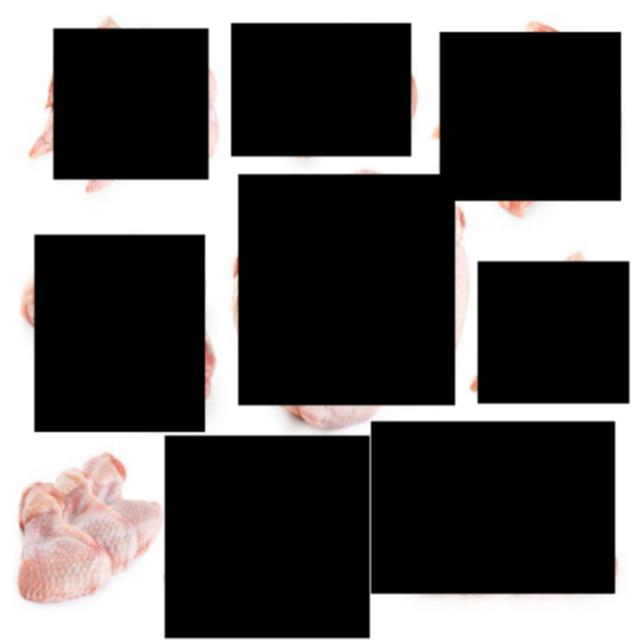Chicken: (239, 174, 456, 406), (371, 423, 616, 595), (166, 437, 371, 640), (35, 235, 205, 433), (441, 33, 622, 202), (231, 25, 412, 158), (54, 30, 210, 181), (478, 263, 630, 405)
